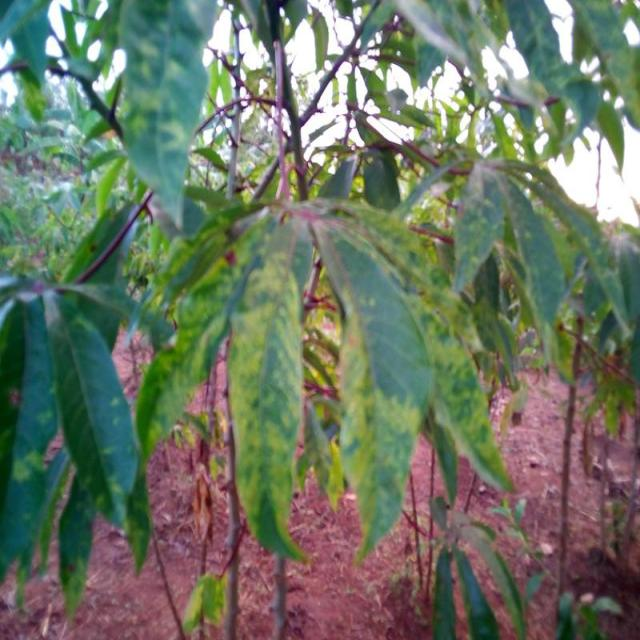cassava leaf: (315, 198, 435, 566), (226, 207, 314, 562), (116, 0, 220, 230)
